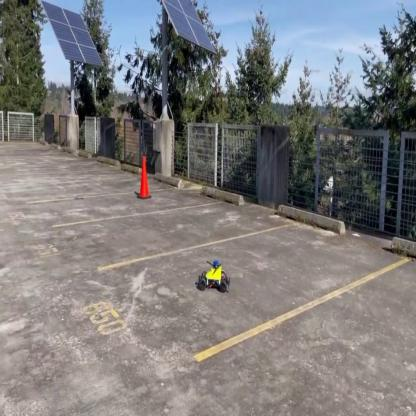cone: (135, 154, 153, 202)
mushr_car: (196, 254, 233, 300)
